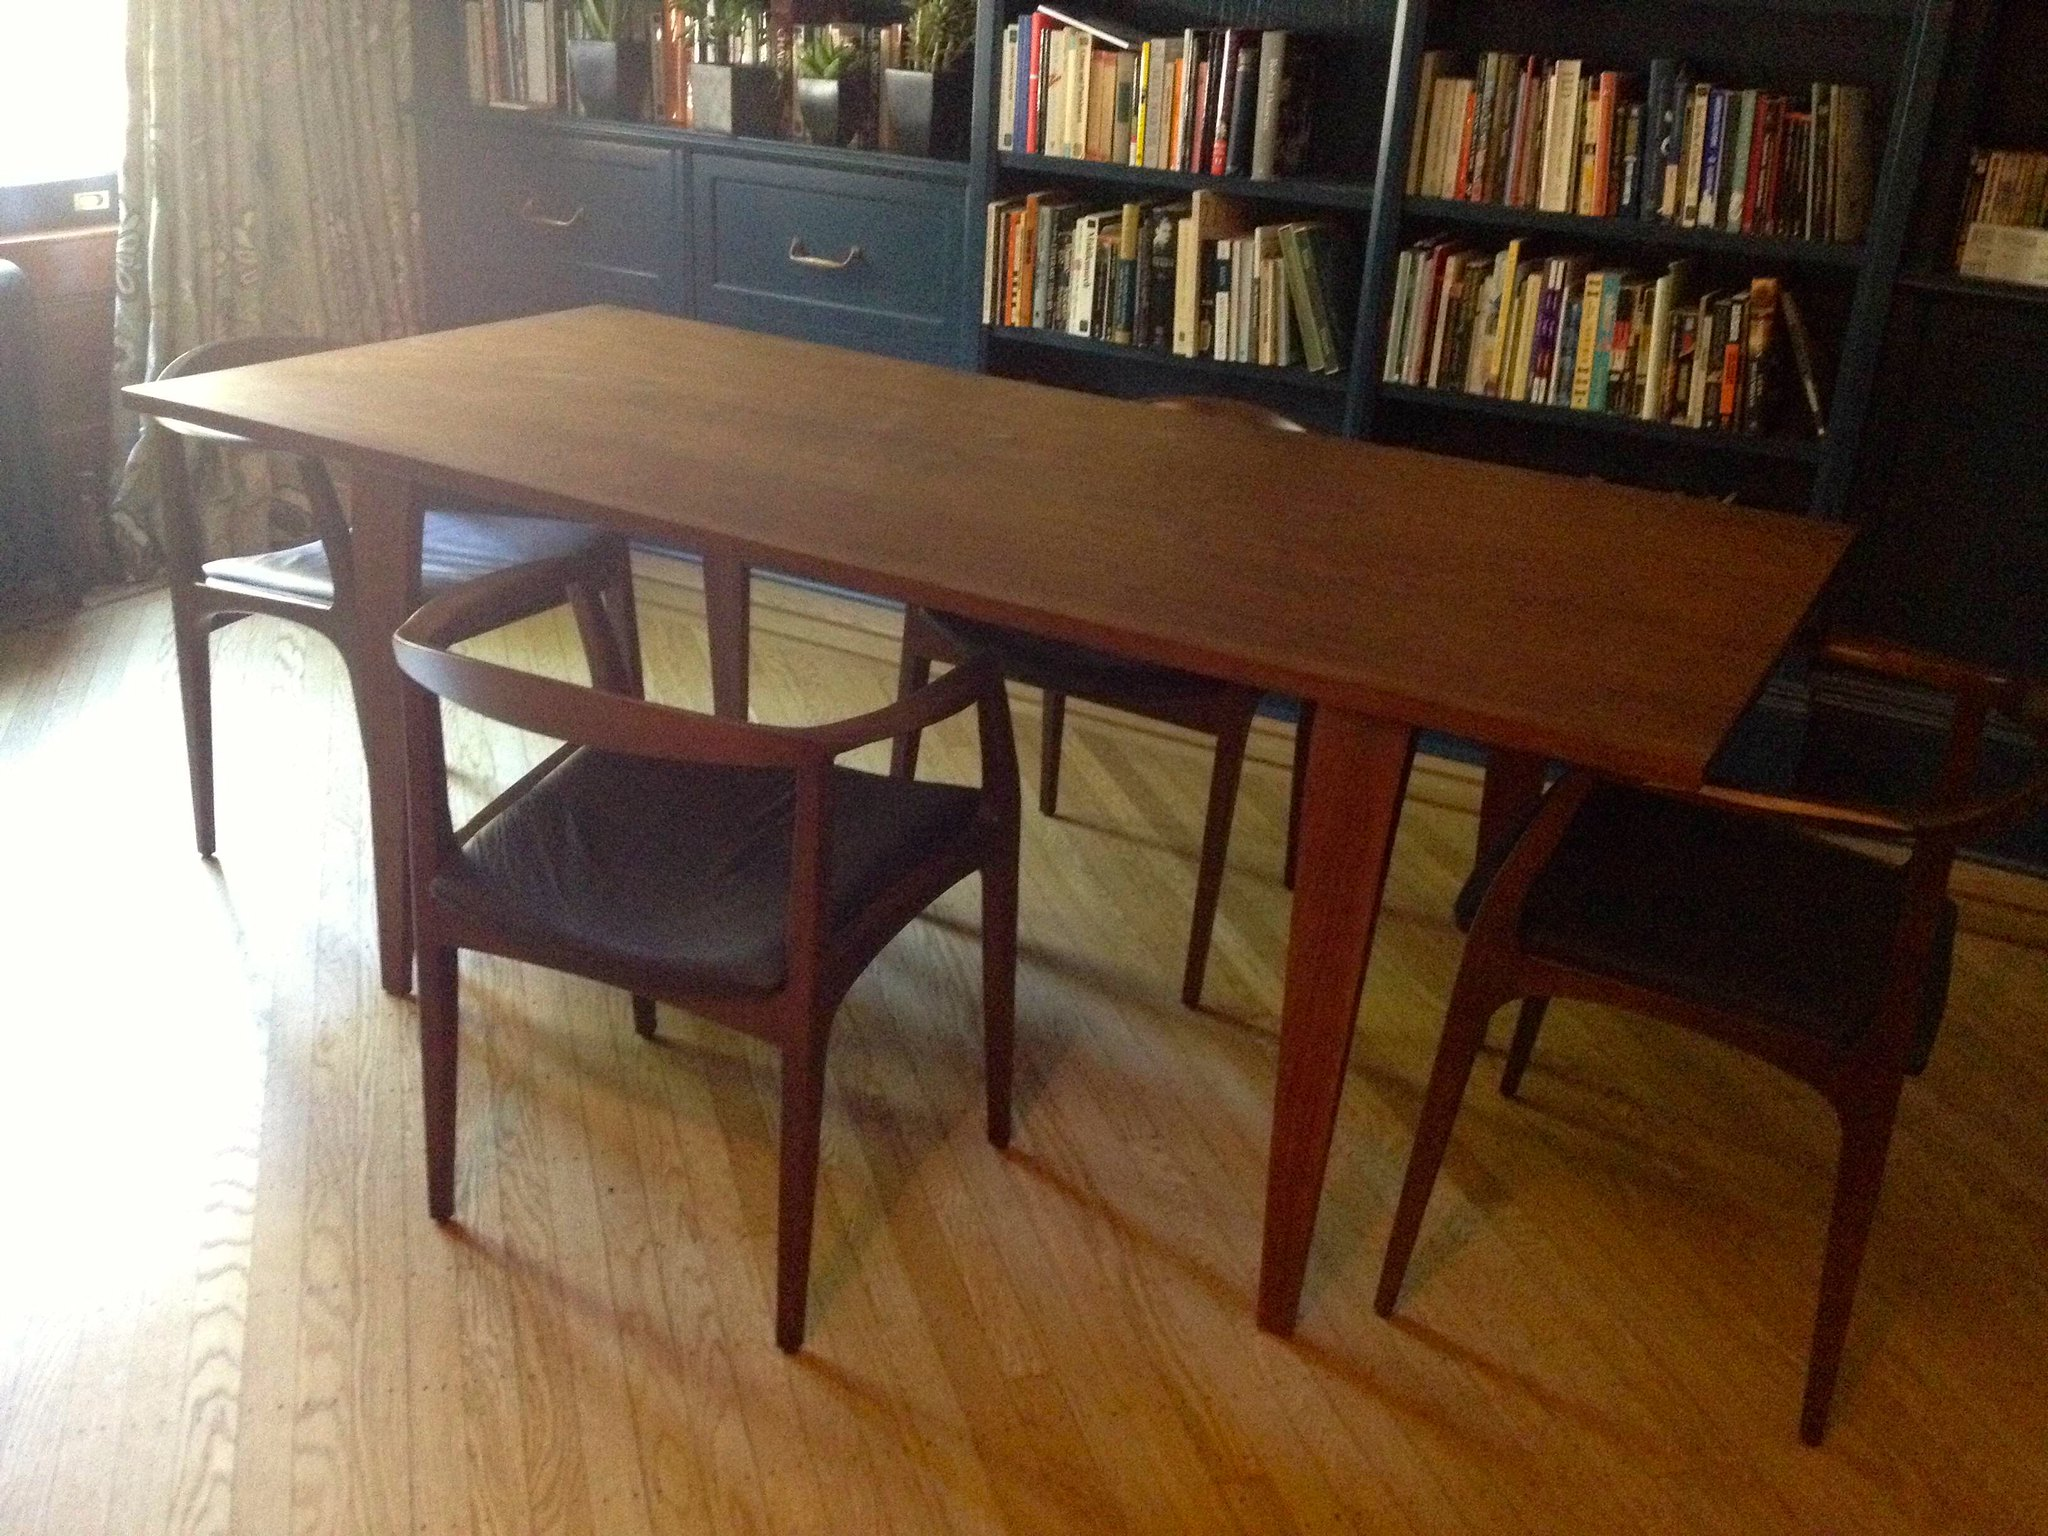chair: (381, 502, 1063, 1279)
dining table: (164, 260, 1787, 1354)
